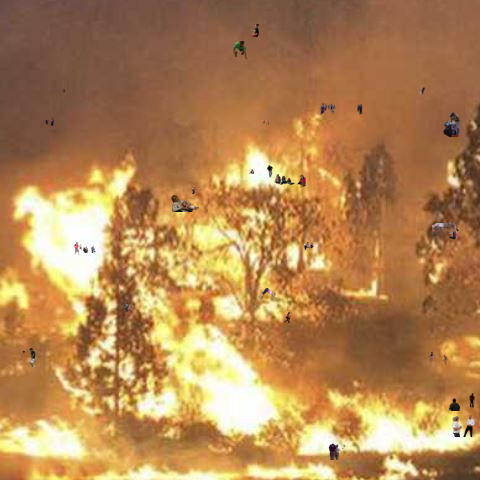Human: (320, 103, 363, 115), (274, 174, 306, 190), (328, 443, 358, 460), (452, 415, 475, 437), (242, 165, 273, 181), (170, 195, 199, 212), (448, 393, 475, 411), (431, 223, 459, 240), (443, 112, 461, 137), (427, 349, 453, 366), (233, 41, 248, 60), (21, 348, 36, 367), (258, 288, 279, 300), (250, 24, 259, 37), (74, 242, 82, 255), (83, 246, 96, 253), (45, 118, 55, 126), (304, 242, 314, 250), (284, 312, 291, 323), (124, 303, 132, 312), (419, 87, 425, 95), (263, 120, 272, 125), (192, 186, 196, 194), (63, 89, 65, 93), (446, 212, 448, 213), (431, 401, 432, 403)
